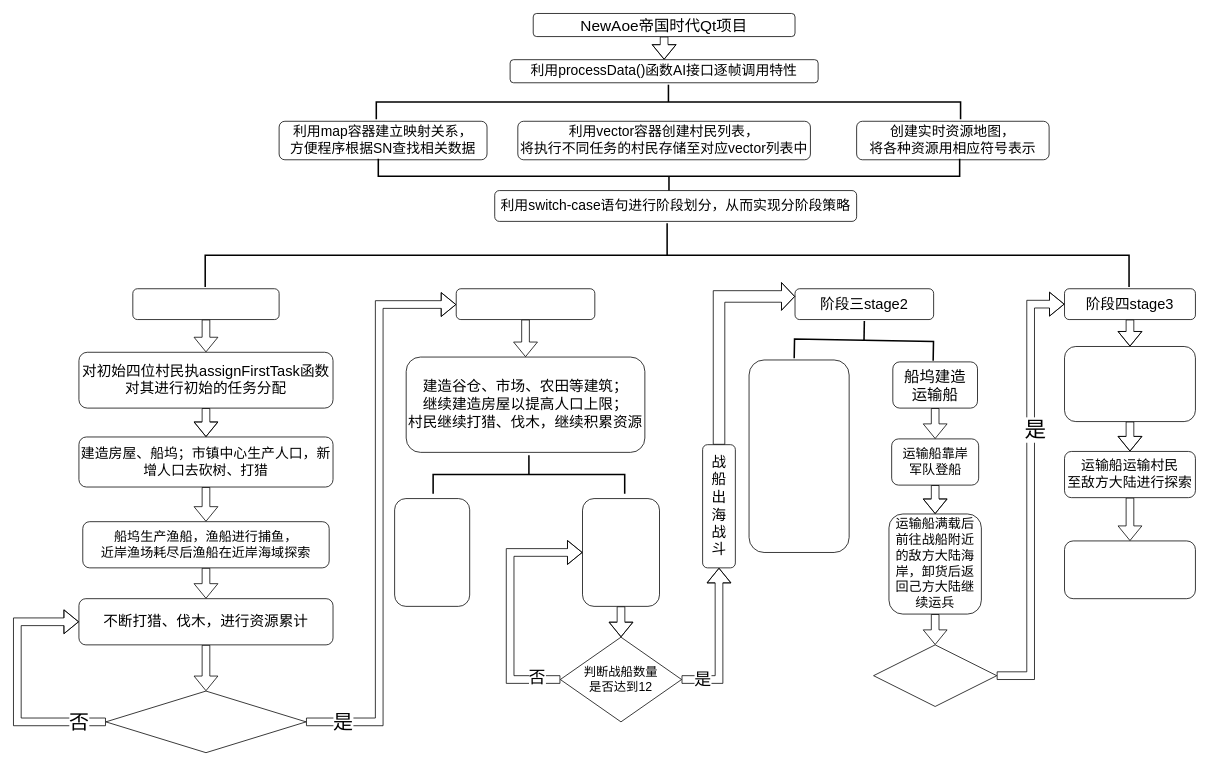
Image size: 1209x766. Some labels were removed from this diagram. The shapes that lost their labels are listed below. From the top down, each one's centre as x and y in pixels, then its label:
At point (205, 304): "阶段一stage0".
At point (525, 304): "阶段二stage1".
At point (1129, 384): "骑兵将敌方军队引至战船海岸，战船与其他陆军协同作战消灭敌军".
At point (798, 455): "建造兵营、 马厩、靶场 等建筑； 生产斧头兵、弓箭兵、 侦察骑兵； 仓库对军队护甲 进行升级".
At point (432, 552): "仓库以及市场升级有关技术，解锁新科技".
At point (621, 552): "船坞开始建造战船，打造我方海军".
At point (1129, 569): "发现金矿后在金矿附近 建造仓库并采集金矿".
At point (935, 675): "判断军队 是否登陆".
At point (205, 721): "判断当前食物是否≥500".
